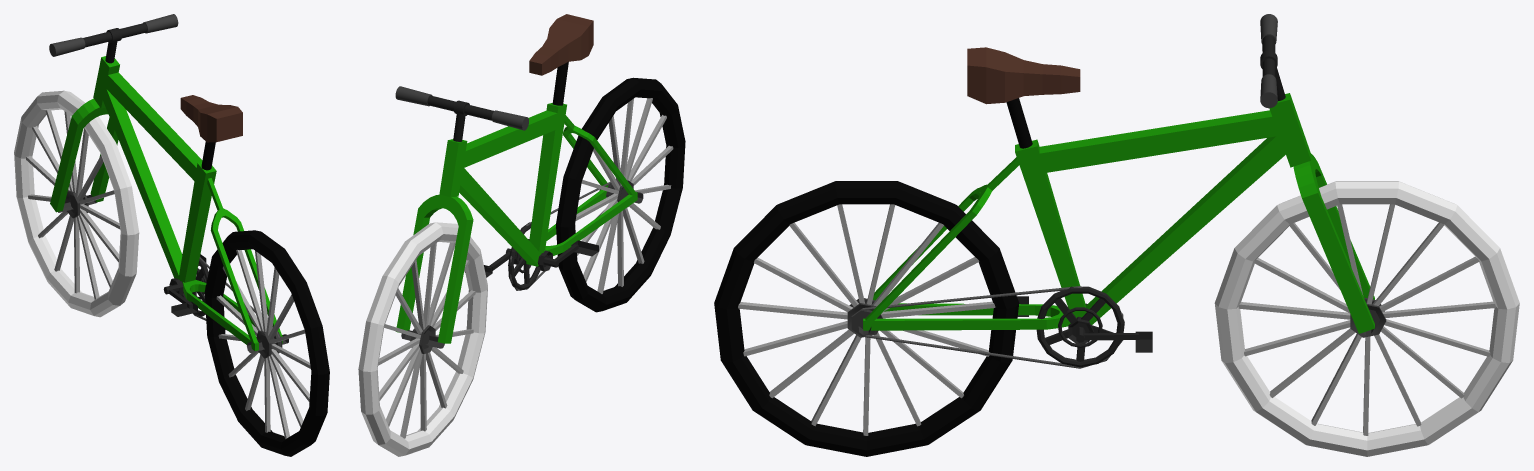
The model's file is bike_green.fbx.
3 renders of one model, left to right at view 1: azimuth 30°, elevation 25°; view 2: azimuth 150°, elevation 25°; view 3: azimuth 270°, elevation 25°, orthographic. The views are drawn at different scales.
Visible parts, largest first — view 1: Cube.036, Torus.001, Torus.003, Cube.028, Cube.001, Cube.038, Cube.041, Cylinder.005, Cylinder.002, Cylinder.007, Cylinder.001, Cylinder.008; view 2: Cube.036, Torus.001, Torus.003, Cube.001, Cube.028, Cube.038, Cube.041, Cylinder.005, Cylinder.001, Cylinder.007, Cylinder.003, Cylinder.008; view 3: Cube.036, Torus.001, Torus.003, Cube.001, Cube.028, Cube.038, Cube.041, Torus.
Part boxes in pixels (x1,y1,x2,y2): Cube.036: [50, 56, 282, 350]; Torus.001: [14, 90, 139, 317]; Torus.003: [204, 230, 329, 456]; Cube.028: [216, 250, 310, 439]; Cube.001: [26, 110, 120, 299]; Cube.038: [180, 95, 242, 142]; Cube.041: [163, 254, 208, 316]; Cylinder.005: [83, 23, 147, 47]; Cylinder.002: [247, 330, 288, 358]; Cylinder.007: [49, 37, 85, 56]; Cylinder.001: [58, 190, 96, 218]; Cylinder.008: [143, 14, 178, 33]; Cube.036: [396, 103, 637, 343]; Torus.001: [358, 222, 487, 456]; Torus.003: [556, 77, 685, 312]; Cube.001: [378, 242, 475, 438]; Cube.028: [575, 98, 673, 293]; Cube.038: [529, 14, 593, 75]; Cube.041: [465, 222, 598, 290]; Cylinder.005: [427, 95, 493, 120]; Cylinder.001: [401, 325, 444, 353]; Cylinder.007: [491, 110, 528, 130]; Cylinder.003: [552, 61, 568, 105]; Cylinder.008: [395, 86, 432, 106]; Cube.036: [863, 93, 1374, 333]; Torus.001: [1214, 181, 1519, 456]; Torus.003: [714, 181, 1019, 456]; Cube.001: [1238, 204, 1495, 435]; Cube.028: [738, 204, 995, 435]; Cube.038: [967, 47, 1080, 104]; Cube.041: [1017, 286, 1152, 367]; Torus: [851, 286, 1123, 368].
Size of the model in its own units: 366 by 879 by 1591.
